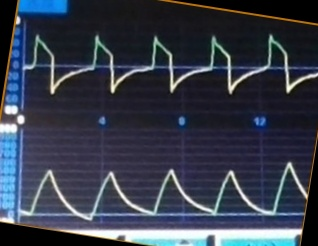Normal Flow: (25, 29, 317, 98)
Normal Volume: (22, 162, 307, 222)
